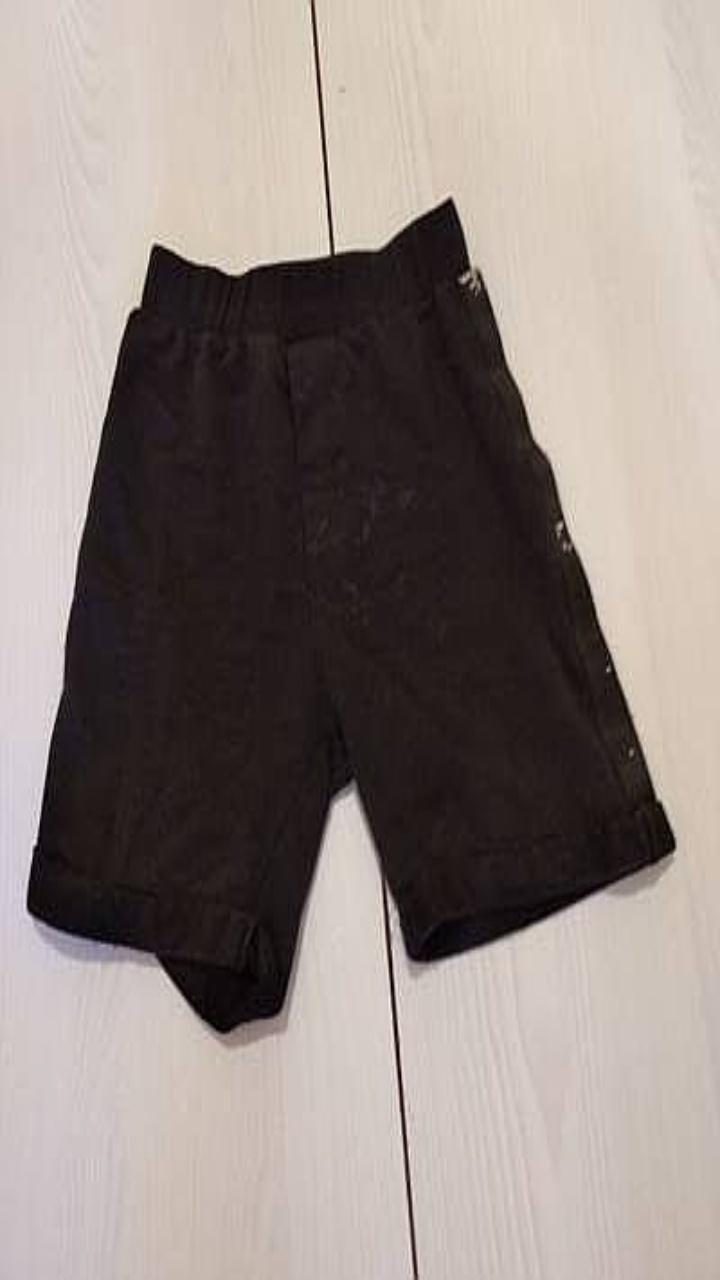Shorts: (27, 197, 674, 1030)
